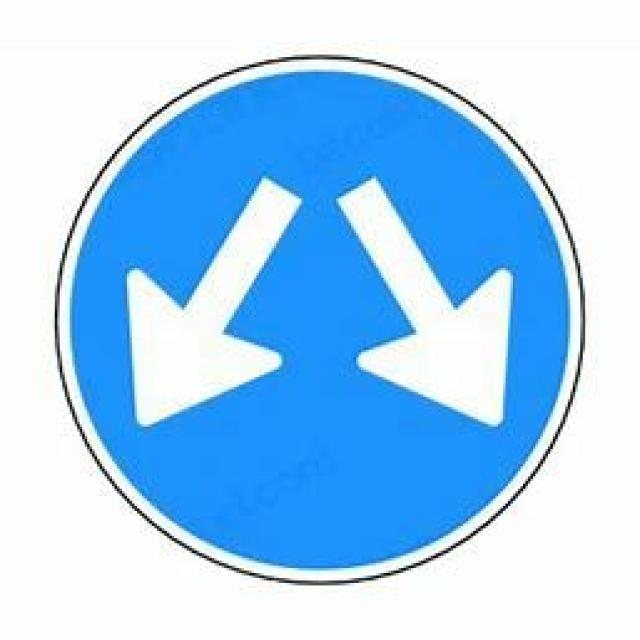PASS_EITHER_SIDE: (51, 55, 594, 598)
